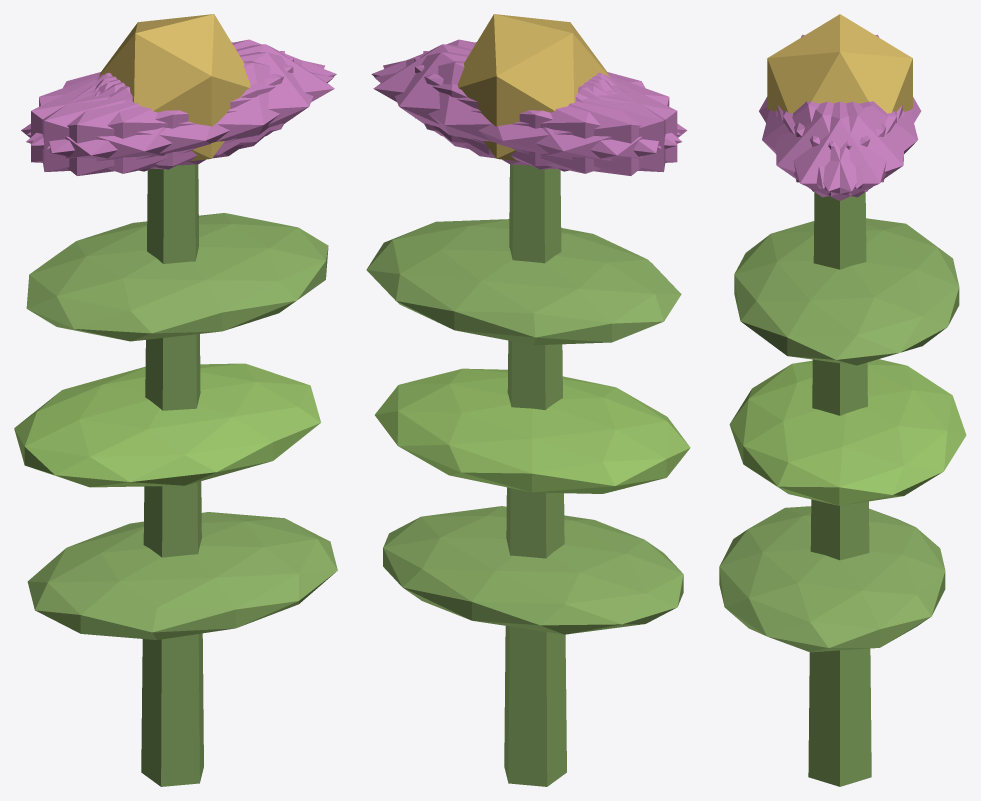
File: ficus-benjamina.glb
3 renders of one model, left to right at view 1: azimuth 30°, elevation 25°; view 2: azimuth 150°, elevation 25°; view 3: azimuth 270°, elevation 25°, orthographic.
Parts seen in each view (by area): view 1: leaf0, leaf2, leaf1, stem, center, petal1, petal6, petal2, petal5, petal7, petal0, petal4 (+2 smaller); view 2: leaf1, leaf2, leaf0, stem, center, petal8, petal3, petal7, petal4, petal2, petal0, petal5 (+2 smaller); view 3: leaf2, leaf1, leaf0, stem, center, petal0, petal5, petal4, petal1, petal8.
Boxes of the visible parts, x1,y1,x2,y2 form: leaf0: [27, 512, 337, 639]; leaf2: [26, 213, 328, 341]; leaf1: [14, 363, 320, 487]; stem: [141, 164, 203, 786]; center: [99, 14, 250, 161]; petal1: [26, 60, 333, 173]; petal6: [21, 74, 243, 175]; petal2: [42, 51, 284, 171]; petal5: [46, 52, 324, 165]; petal7: [31, 57, 293, 169]; petal0: [98, 44, 334, 155]; petal4: [27, 39, 336, 145]; leaf1: [375, 368, 690, 493]; leaf2: [366, 219, 681, 345]; leaf0: [383, 506, 683, 634]; stem: [504, 164, 566, 786]; center: [457, 14, 609, 161]; petal8: [374, 61, 682, 173]; petal3: [464, 74, 687, 175]; petal7: [423, 51, 665, 171]; petal4: [383, 52, 661, 166]; petal2: [414, 57, 677, 169]; petal0: [373, 44, 609, 155]; petal5: [371, 39, 680, 145]; leaf2: [734, 218, 959, 365]; leaf1: [729, 359, 966, 505]; leaf0: [719, 506, 945, 652]; stem: [808, 192, 871, 786]; center: [767, 14, 912, 113]; petal0: [777, 101, 902, 200]; petal5: [775, 101, 896, 197]; petal4: [783, 101, 904, 197]; petal1: [762, 101, 885, 188]; petal8: [794, 101, 918, 188].
Size of the model in its own units: 0.1452 by 0.3434 by 0.1039.
